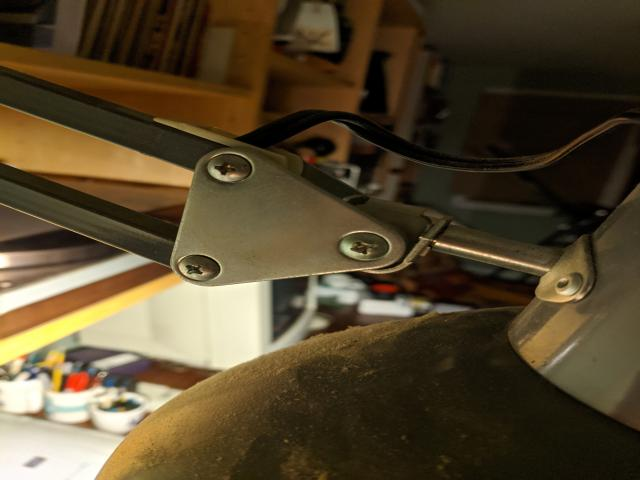CRS: (340, 230, 391, 264), (205, 154, 252, 183), (178, 253, 220, 282)
